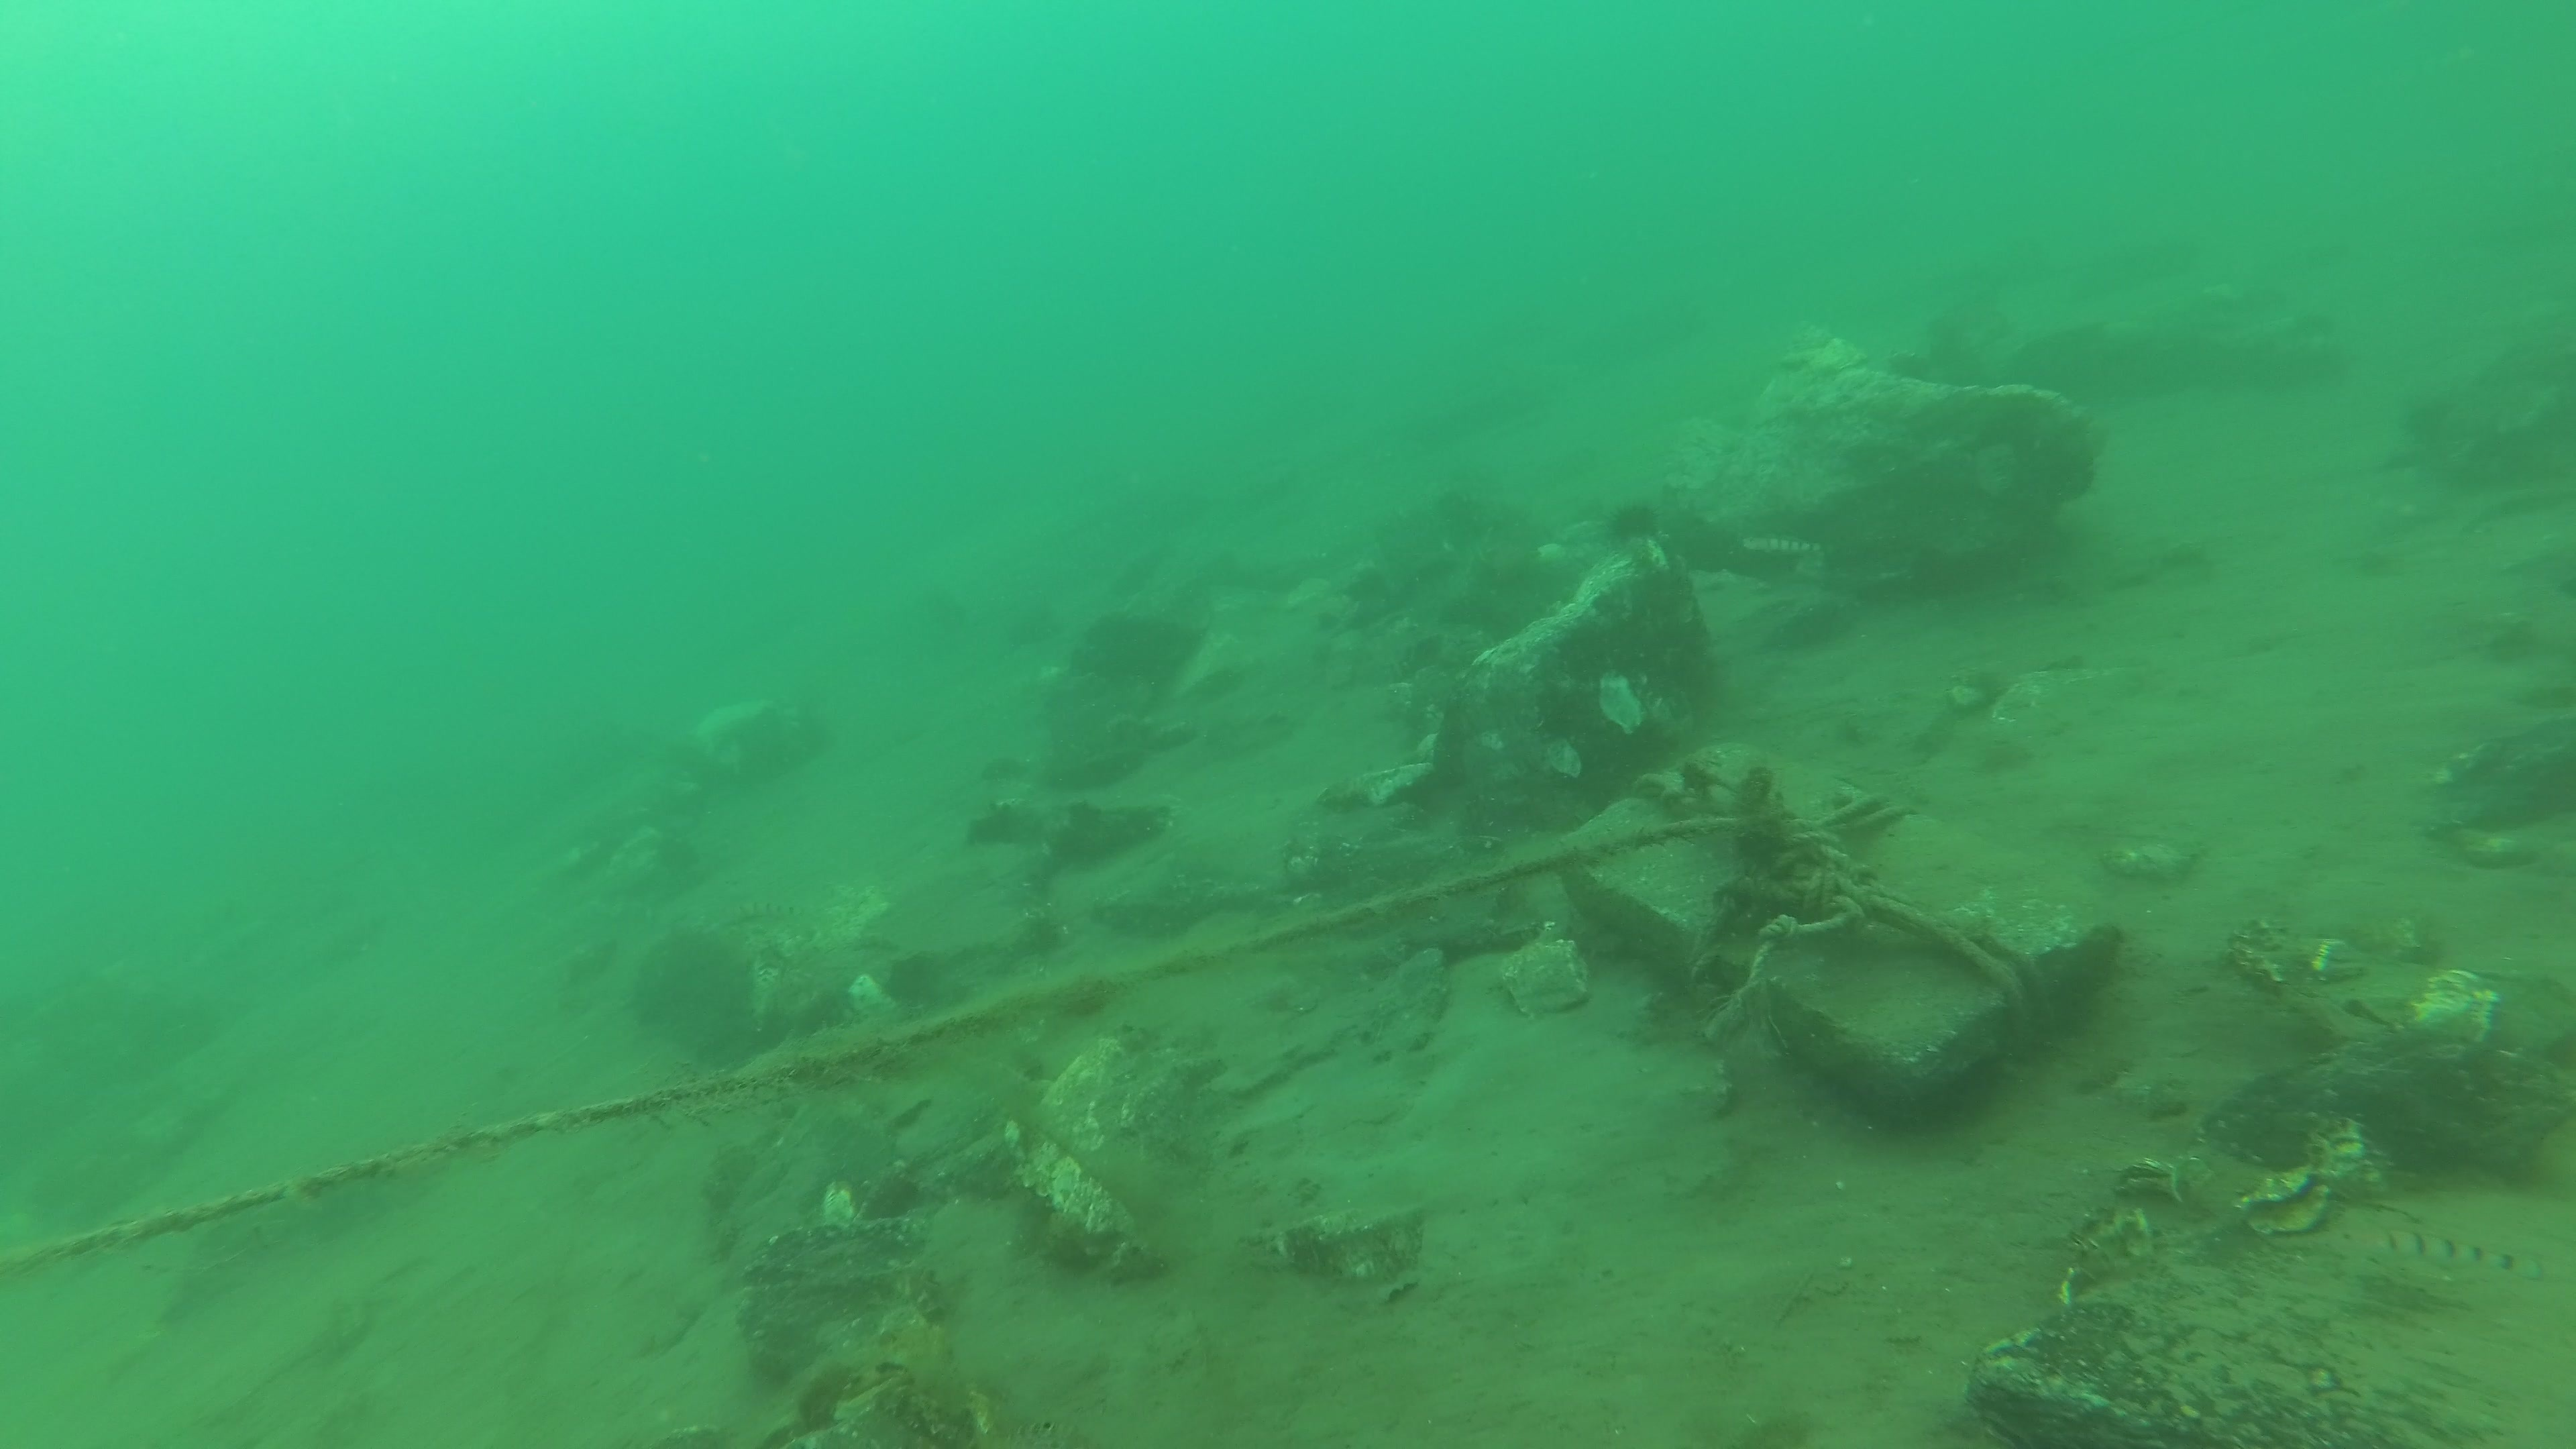echinus: (1601, 495, 1663, 543), (791, 1384, 842, 1437)
